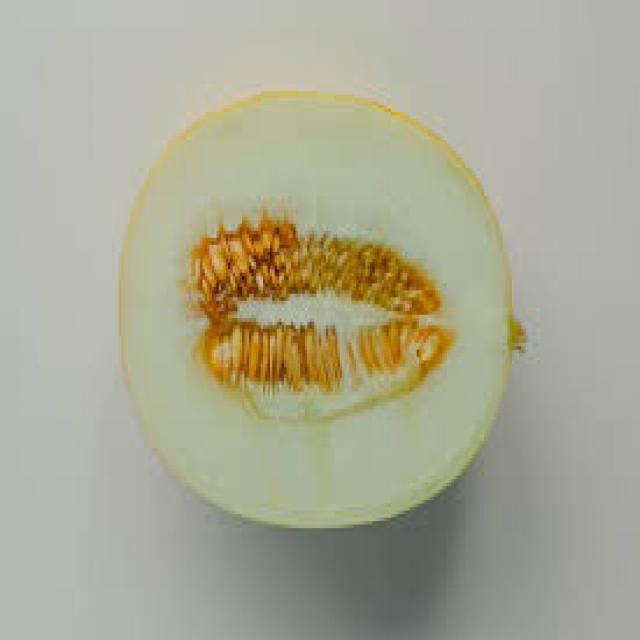melon: (119, 84, 535, 539)
